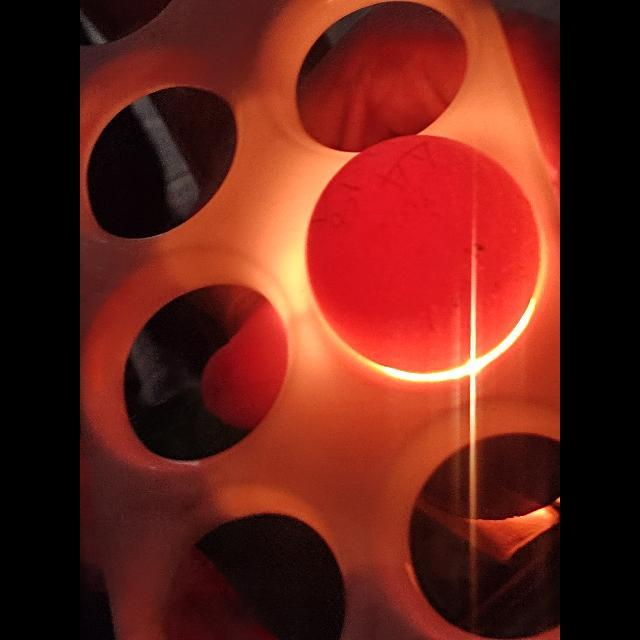Infertile: (298, 138, 544, 374)
